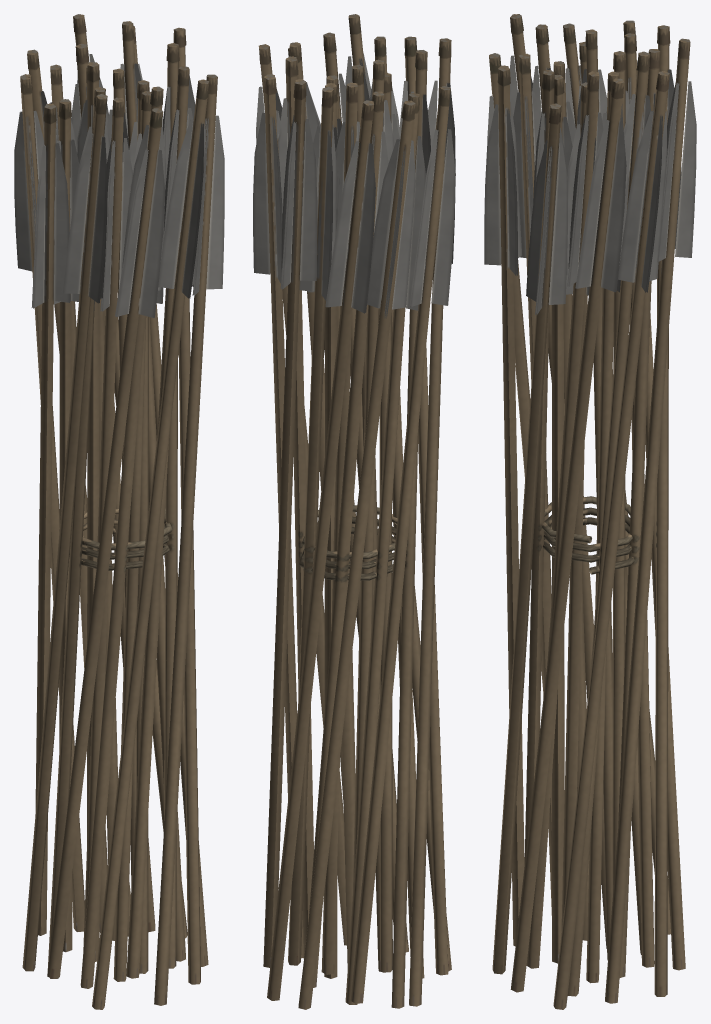
The model's file is SM_Camp_ArrowSheaf.fbx.
3 views of the same model, side by side, from view 1: azimuth 30°, elevation 25°; view 2: azimuth 150°, elevation 25°; view 3: azimuth 270°, elevation 25° (orthographic).
Visible parts, largest first — view 1: SM_Camp_ArrowSheaf; view 2: SM_Camp_ArrowSheaf; view 3: SM_Camp_ArrowSheaf.
Part boxes in pixels (<box>): SM_Camp_ArrowSheaf: <box>14,14,224,1009</box>; SM_Camp_ArrowSheaf: <box>253,14,455,1009</box>; SM_Camp_ArrowSheaf: <box>484,14,696,1009</box>.
Bounding box in the file's own units: 14.28 × 14.74 × 71.83.
